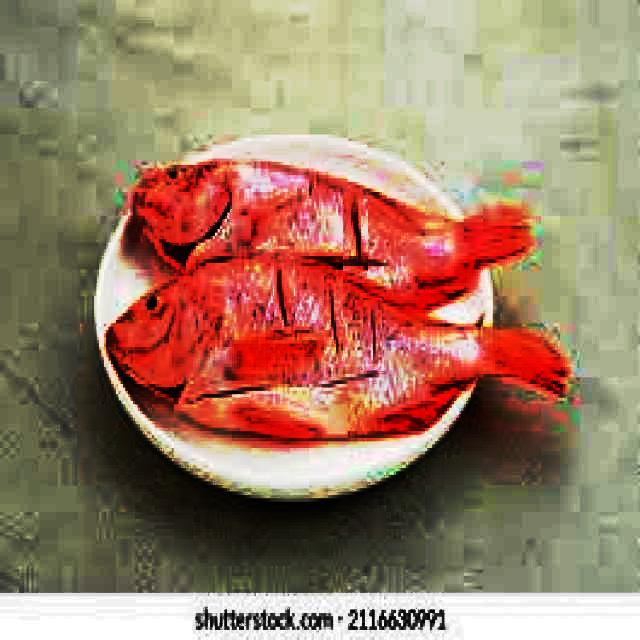Aeromonas Septicemia: (108, 259, 568, 441), (132, 161, 524, 311)
